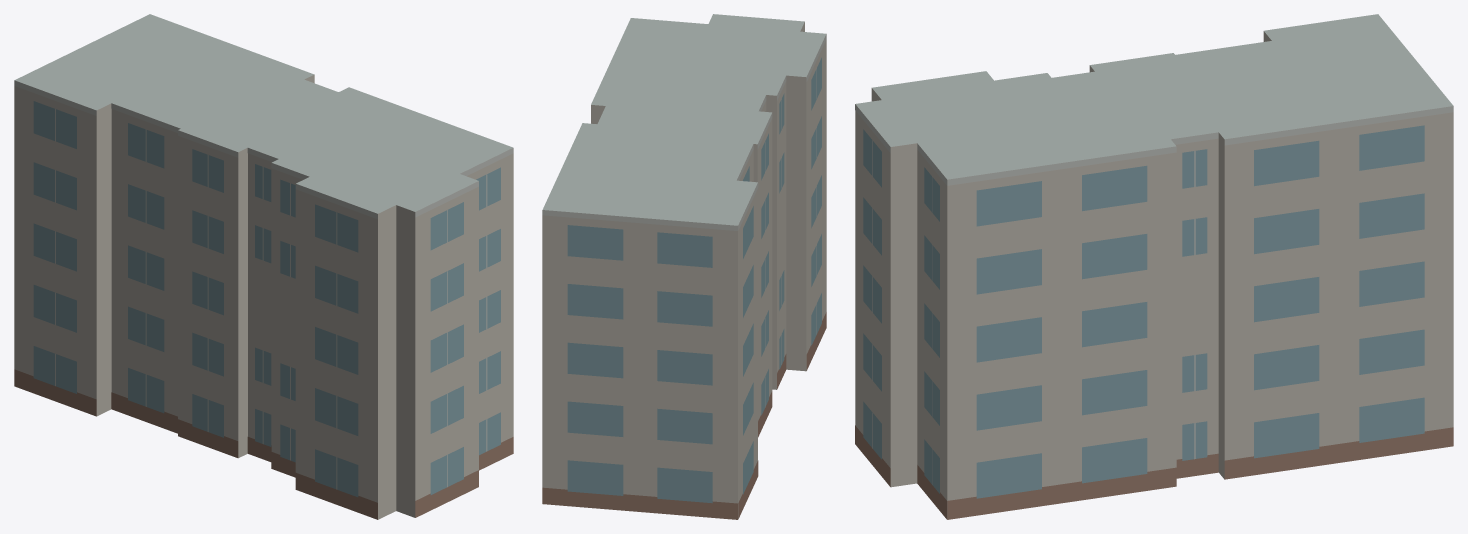
File: survey-upis-32621417.glb
3 renders of one model, left to right at view 1: azimuth 30°, elevation 25°; view 2: azimuth 150°, elevation 25°; view 3: azimuth 270°, elevation 25°, orthographic. The views are drawn at different scales.
Visible parts, largest first — view 1: survey-upis-32621417.tmp; view 2: survey-upis-32621417.tmp; view 3: survey-upis-32621417.tmp.
Part boxes in pixels (x1=…): survey-upis-32621417.tmp: x1=14, y1=14, x2=513, y2=519; survey-upis-32621417.tmp: x1=542, y1=14, x2=826, y2=519; survey-upis-32621417.tmp: x1=855, y1=14, x2=1453, y2=519.
Size of the model in its own units: 13.95 by 13.35 by 21.3.
